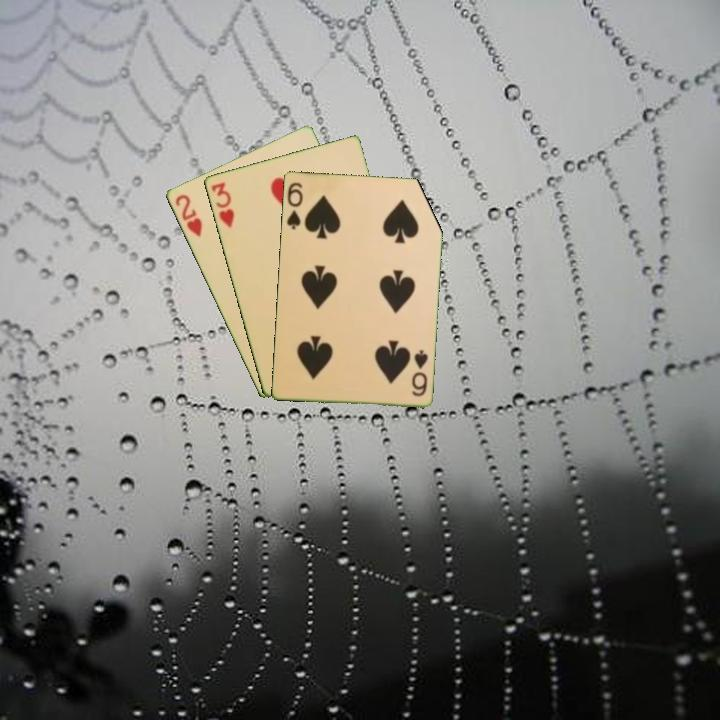2h: (171, 191, 205, 240)
3h: (207, 178, 237, 231)
6s: (283, 179, 305, 232), (408, 346, 430, 399)
